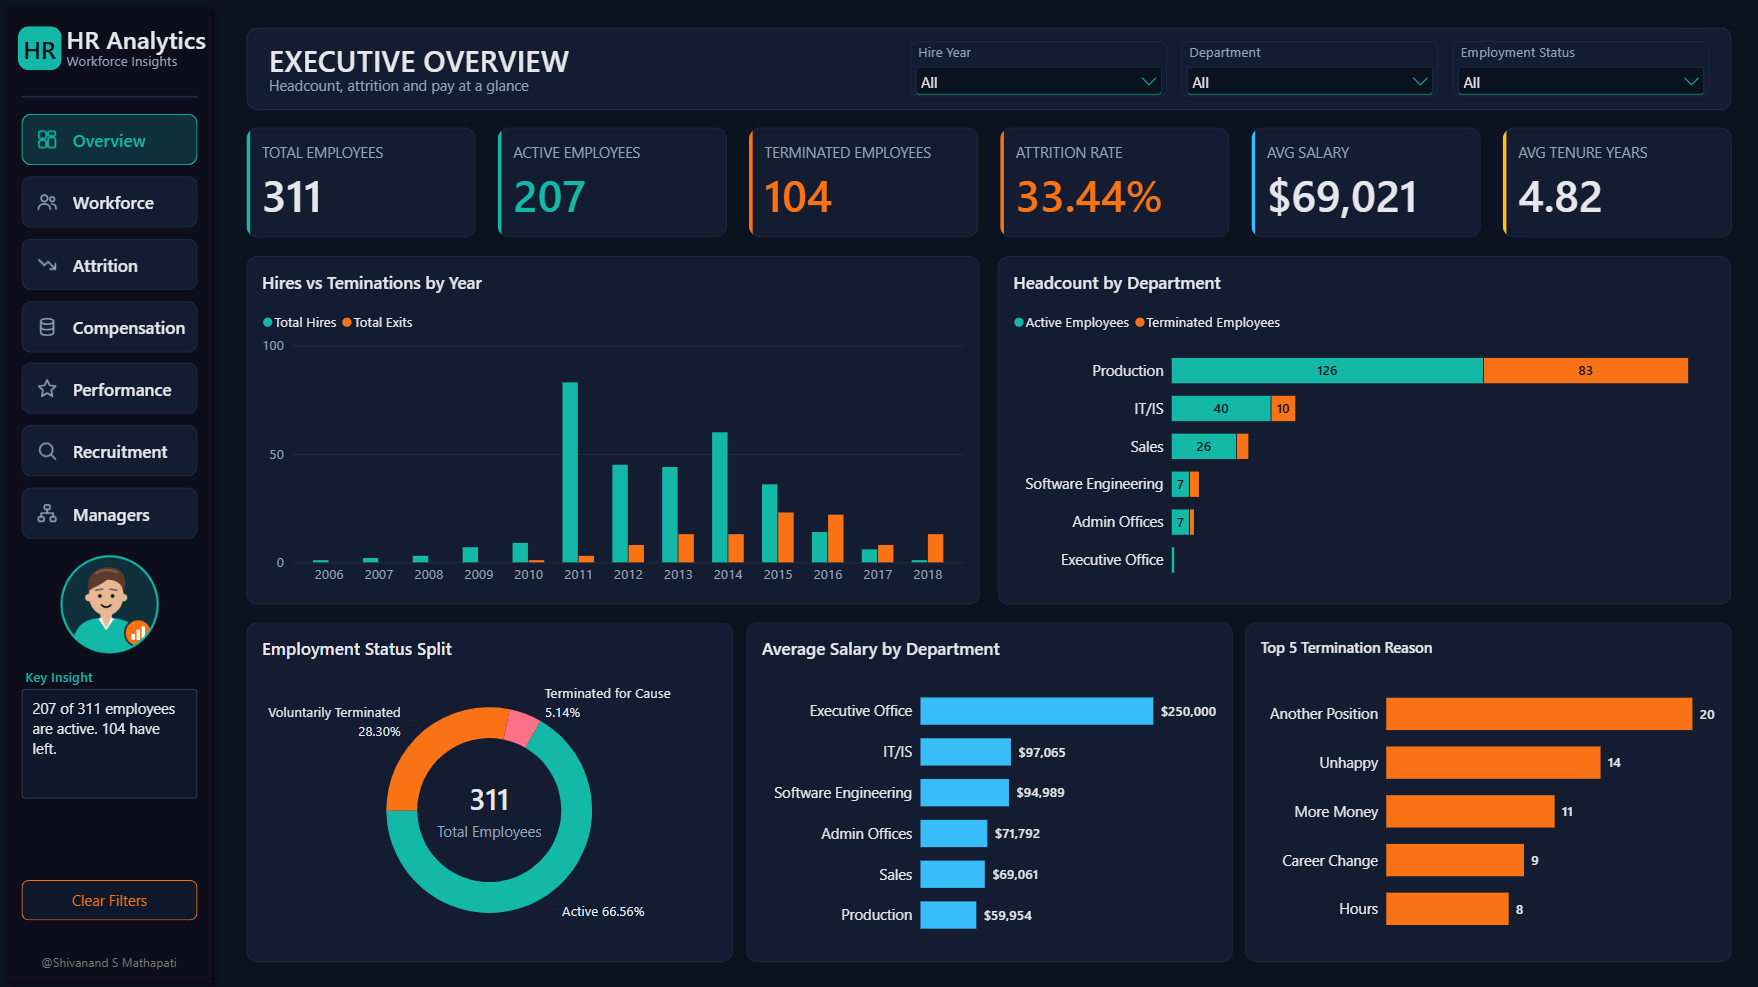

Layout of this report page (visuals, bound fields, positions):
{"tool":"powerbi","page":{"name":"HRAnalytics","canvas":[1920,1080],"ordinal":0},"visuals":[{"type":"shape","title":"Top Strip","box":[270,30,1620,90],"z":0},{"type":"textbox","title":"Title - Executive Overview","box":[294,44,520,46],"z":0,"group":"g1"},{"type":"shape","title":"Sidebar Panel","box":[0,0,240,1080],"z":1000},{"type":"textbox","title":"Sub Title - Executive Overview","box":[294,82,520,28],"z":1000,"group":"g1"},{"type":"shape","title":"Logo Title","box":[20,28,48,48],"z":2000},{"type":"cardVisual","title":"KPI_Overview-01-Total Employees","fields":{"Data":["_Measures.Total Employees"]},"box":[270,140,250,120],"z":2000,"group":"g1"},{"type":"textbox","title":"Sidebar Title","box":[73,25,168,40],"z":3000},{"type":"cardVisual","title":"KPI_Overview-02- Active Employees","fields":{"Data":["_Measures.Active Employees"]},"box":[544,140,250,120],"z":3000,"group":"g1"},{"type":"textbox","title":"Sidebar subtitle","box":[73,56,140,24],"z":4000},{"type":"cardVisual","title":"KPI_Overview-03- Terminated Employees","fields":{"Data":["_Measures.Terminated Employees"]},"box":[818,140,250,120],"z":4000,"group":"g1"},{"type":"shape","title":"Sidebar Divider","box":[24,100,192,12],"z":5000},{"type":"cardVisual","title":"KPI_Overview-04- Attrition Rate","fields":{"Data":["_Measures.Attrition Rate %"]},"box":[1092,140,250,120],"z":5000,"group":"g1"},{"type":"cardVisual","title":"KPI_Overview-05-Avg Salary","fields":{"Data":["_Measures.Avg Salary"]},"box":[1366,140,250,120],"z":6000,"group":"g1"},{"type":"cardVisual","title":"KPI_Overview-06-Avg Tenure Years","fields":{"Data":["_Measures.Avg Tenure Years"]},"box":[1640,140,250,120],"z":7000,"group":"g1"},{"type":"actionButton","title":"Button 2 Workforce","box":[24,192,192,56],"z":7000},{"type":"actionButton","title":"Button 3 Attrition","box":[24,260,192,56],"z":8000},{"type":"clusteredColumnChart","title":"Hires vs Teminations by Year","fields":{"Category":["Date.Year"],"Y":["_Measures.Total Hires","_Measures.Total Exists"]},"box":[270,280,800,380],"z":8000,"group":"g1"},{"type":"barChart","title":"Headcount by Department","fields":{"Category":["Department.Department"],"Y":["_Measures.Active Employees","_Measures.Terminated Employees"]},"box":[1090,280,800,380],"z":9000,"group":"g1"},{"type":"actionButton","title":"Button 4 Compensation","box":[24,328,192,56],"z":9000},{"type":"actionButton","title":"Button 5 Performance","box":[24,396,192,56],"z":10000},{"type":"donutChart","title":"Employment Status Split","fields":{"Category":["Employment Status.EmploymentStatus"],"Y":["_Measures.Total Employees"]},"box":[270,680,530,370],"z":10000,"group":"g1"},{"type":"actionButton","title":"Button 6 Recruitment","box":[24,464,192,56],"z":11000},{"type":"clusteredBarChart","title":"Average Salary by Department","fields":{"Category":["Department.Department"],"Y":["_Measures.Avg Salary"]},"box":[815,680,530,370],"z":11000,"group":"g1"},{"type":"actionButton","title":"Button 7 Managers","box":[24,532,192,56],"z":12000},{"type":"clusteredBarChart","title":"Top 5 Termination Reason","fields":{"Category":["Termination Reason.TermReason"],"Y":["_Measures.Terminated Employees"]},"box":[1360,680,530,370],"z":12000,"group":"g1"},{"type":"slicer","title":"Slicer - Department","fields":{"Values":["Department.Department"]},"box":[1290,45,280,60],"z":13000},{"type":"slicer","title":"Slicer - Hire Year","fields":{"Values":["Date.Year"]},"box":[994,45,280,60],"z":14000},{"type":"slicer","title":"Slicer - Employment Current Status","fields":{"Values":["Fact Employment.EmpCurrentStatus"]},"box":[1586,45,280,60],"z":15000},{"type":"group","id":"g1","title":"01 - Executive Overview","box":[270,44,1620,1006],"z":16000},{"type":"actionButton","title":"Button - Clear Filters","box":[24,960,192,44],"z":23000},{"type":"actionButton","title":"Button 1 Sel Overview","box":[24,124,192,56],"z":24000},{"type":"image","title":"Icon - Overview","box":[64.9,603.9,110,110],"z":31000},{"type":"textbox","title":"Insight Text box - Overview","box":[28,728,194,22],"z":32000},{"type":"actionButton","title":"Insight box - Overview","box":[24,752,192,120],"z":33000}]}

Visuals, with their boxes in screenshot pixels (x1, y1, x2, y2), scaled from the page's 1920x1080 canvas onto the 1758x987 screenshot:
"Top Strip" shape: pyautogui.locateOnScreen(247, 27, 1731, 110)
"Title - Executive Overview" textbox: pyautogui.locateOnScreen(269, 40, 745, 82)
"Sidebar Panel" shape: pyautogui.locateOnScreen(0, 0, 220, 986)
"Sub Title - Executive Overview" textbox: pyautogui.locateOnScreen(269, 75, 745, 101)
"Logo Title" shape: pyautogui.locateOnScreen(18, 26, 62, 69)
"KPI_Overview-01-Total Employees" cardVisual: pyautogui.locateOnScreen(247, 128, 476, 238)
"Sidebar Title" textbox: pyautogui.locateOnScreen(67, 23, 221, 59)
"KPI_Overview-02- Active Employees" cardVisual: pyautogui.locateOnScreen(498, 128, 727, 238)
"Sidebar subtitle" textbox: pyautogui.locateOnScreen(67, 51, 195, 73)
"KPI_Overview-03- Terminated Employees" cardVisual: pyautogui.locateOnScreen(749, 128, 978, 238)
"Sidebar Divider" shape: pyautogui.locateOnScreen(22, 91, 198, 102)
"KPI_Overview-04- Attrition Rate" cardVisual: pyautogui.locateOnScreen(1000, 128, 1229, 238)
"KPI_Overview-05-Avg Salary" cardVisual: pyautogui.locateOnScreen(1251, 128, 1480, 238)
"KPI_Overview-06-Avg Tenure Years" cardVisual: pyautogui.locateOnScreen(1502, 128, 1731, 238)
"Button 2 Workforce" actionButton: pyautogui.locateOnScreen(22, 175, 198, 227)
"Button 3 Attrition" actionButton: pyautogui.locateOnScreen(22, 238, 198, 289)
"Hires vs Teminations by Year" clusteredColumnChart: pyautogui.locateOnScreen(247, 256, 980, 603)
"Headcount by Department" barChart: pyautogui.locateOnScreen(998, 256, 1731, 603)
"Button 4 Compensation" actionButton: pyautogui.locateOnScreen(22, 300, 198, 351)
"Button 5 Performance" actionButton: pyautogui.locateOnScreen(22, 362, 198, 413)
"Employment Status Split" donutChart: pyautogui.locateOnScreen(247, 621, 732, 960)
"Button 6 Recruitment" actionButton: pyautogui.locateOnScreen(22, 424, 198, 475)
"Average Salary by Department" clusteredBarChart: pyautogui.locateOnScreen(746, 621, 1232, 960)
"Button 7 Managers" actionButton: pyautogui.locateOnScreen(22, 486, 198, 537)
"Top 5 Termination Reason" clusteredBarChart: pyautogui.locateOnScreen(1245, 621, 1731, 960)
"Slicer - Department" slicer: pyautogui.locateOnScreen(1181, 41, 1438, 96)
"Slicer - Hire Year" slicer: pyautogui.locateOnScreen(910, 41, 1167, 96)
"Slicer - Employment Current Status" slicer: pyautogui.locateOnScreen(1452, 41, 1709, 96)
"01 - Executive Overview" group: pyautogui.locateOnScreen(247, 40, 1731, 960)
"Button - Clear Filters" actionButton: pyautogui.locateOnScreen(22, 877, 198, 918)
"Button 1 Sel Overview" actionButton: pyautogui.locateOnScreen(22, 113, 198, 164)
"Icon - Overview" image: pyautogui.locateOnScreen(59, 552, 160, 652)
"Insight Text box - Overview" textbox: pyautogui.locateOnScreen(26, 665, 203, 685)
"Insight box - Overview" actionButton: pyautogui.locateOnScreen(22, 687, 198, 797)
